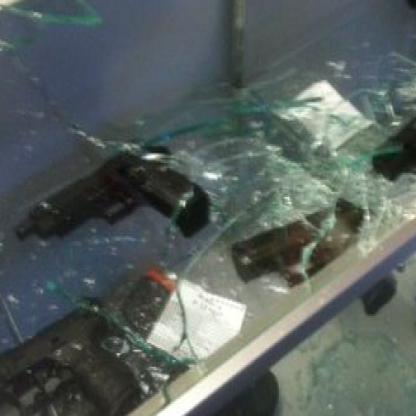gun: (0, 127, 220, 243), (228, 193, 397, 316), (0, 300, 155, 414), (369, 64, 415, 178)
